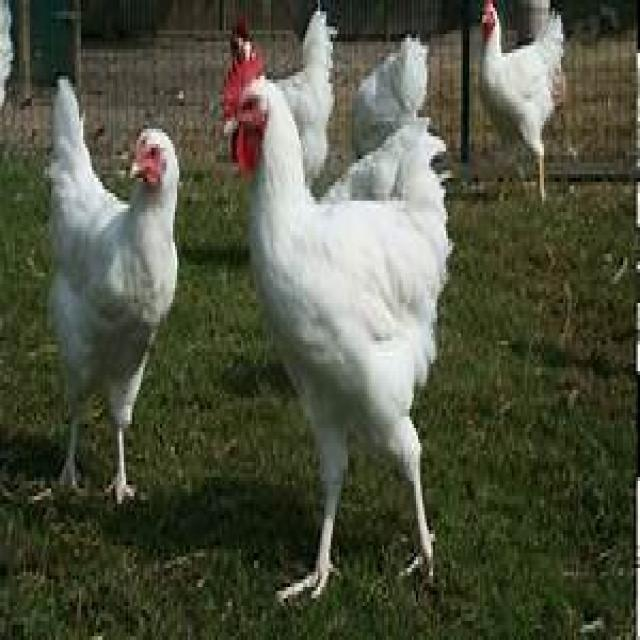hen: (239, 61, 452, 610), (45, 76, 181, 511), (482, 0, 565, 170)
